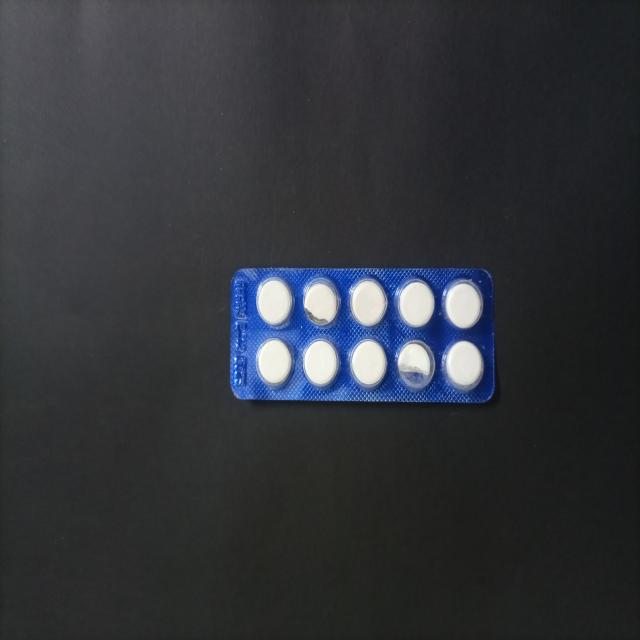defect: (300, 273, 343, 332), (396, 338, 436, 393)
